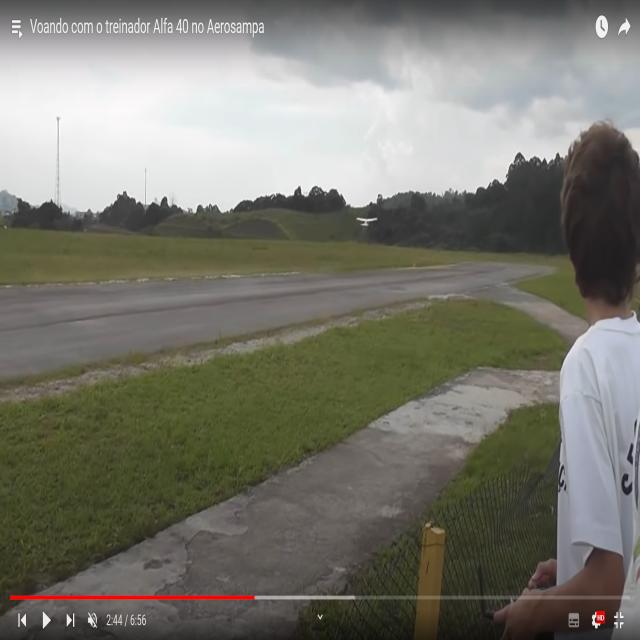iha: (357, 214, 378, 230)
